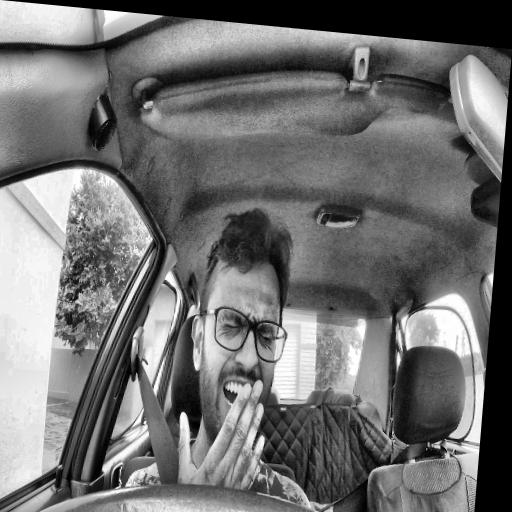drowsy: (182, 204, 297, 457)
